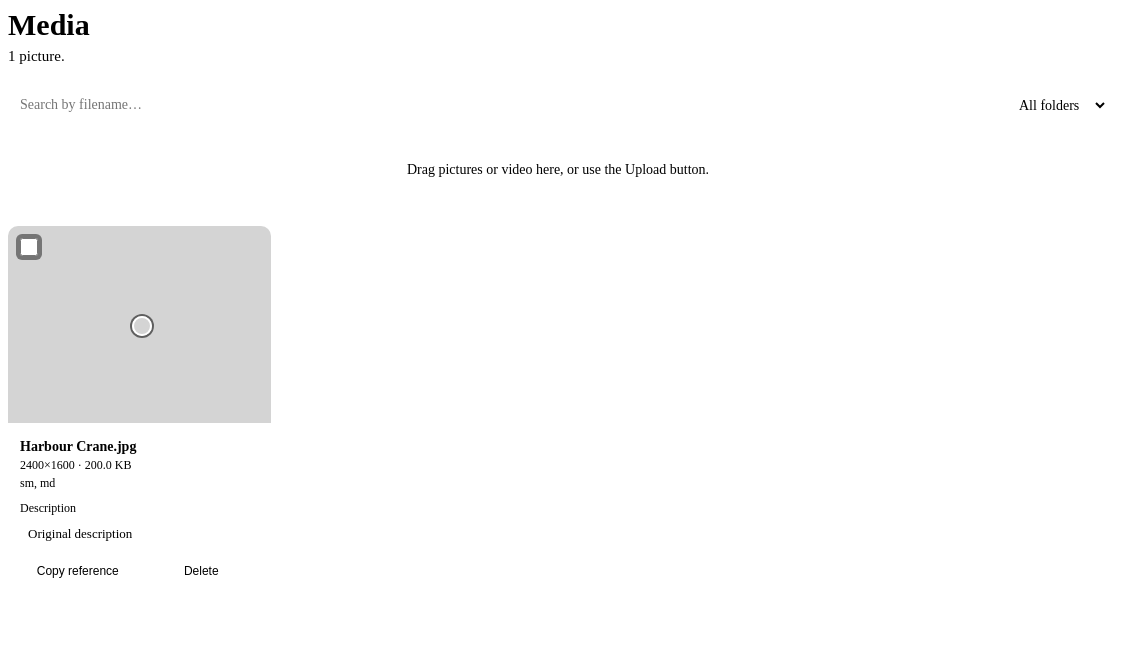
media description persistence › keeps the saved description and reports a network failure
Replace the text in the field with class "alt-input" with "Changed description" at coordinates (148, 534), box [20,520,275,549]
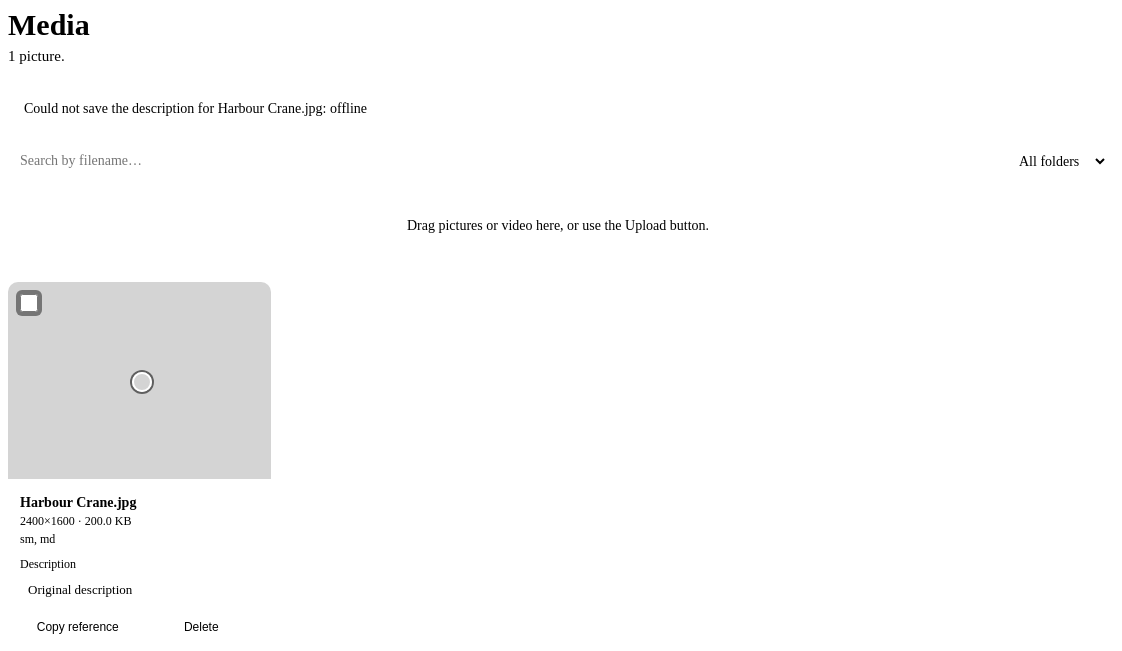
Expected: the field with class "alt-input" holds "Original description", [20,576,271,605]
Result: the message "Could not save the description for Harbour Crane.jpg: offline" is shown at [24,101,367,116]
